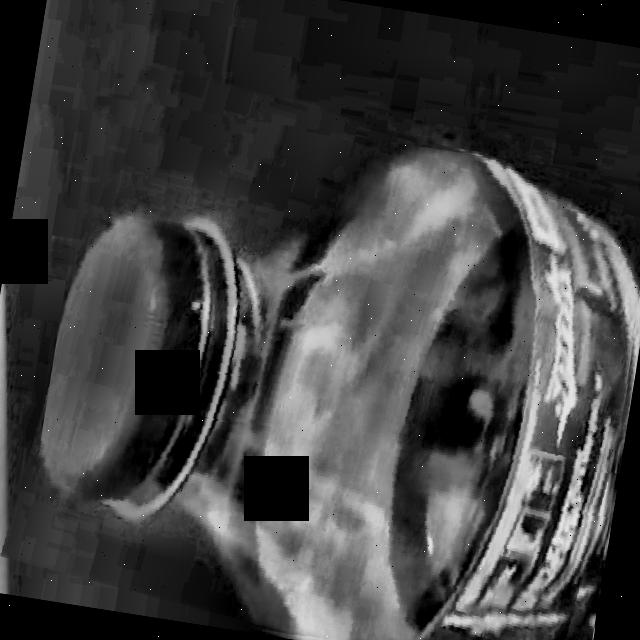bottle: (44, 149, 640, 640)
